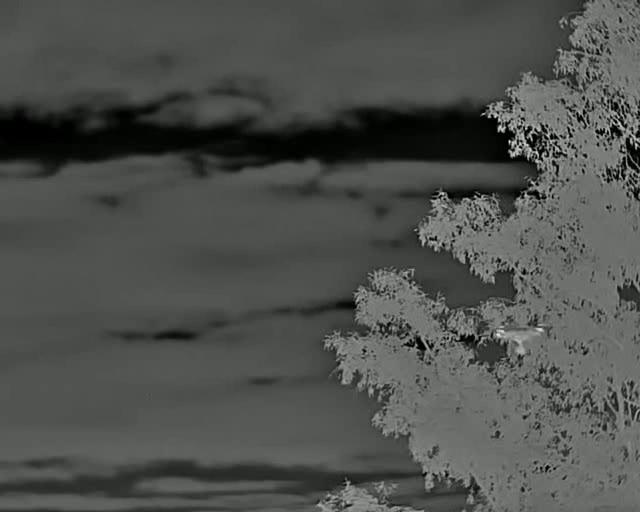DJI-Phantom: (499, 328, 549, 356)
